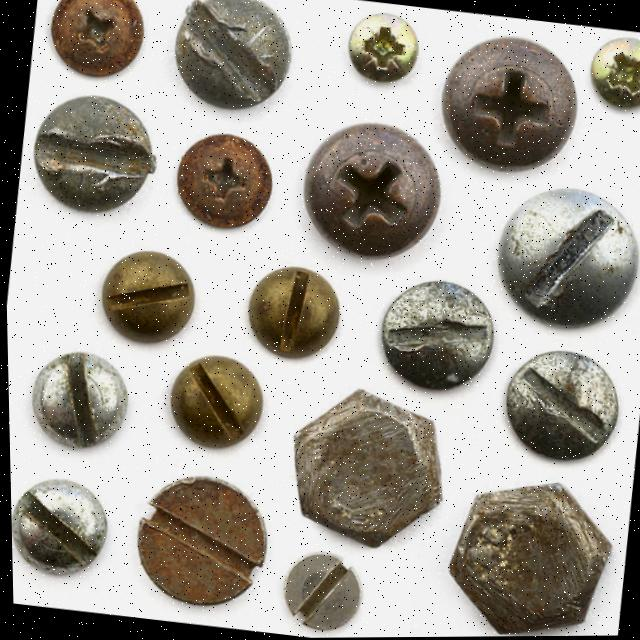Phillips: (286, 110, 457, 268), (433, 38, 586, 177), (163, 117, 281, 240), (28, 0, 170, 89)
Pozidriv: (334, 1, 432, 93), (577, 32, 640, 116)
Slotted: (116, 470, 292, 624), (484, 167, 640, 332), (12, 83, 171, 229), (499, 343, 640, 477), (162, 0, 312, 118), (368, 274, 498, 399), (153, 347, 268, 465), (235, 255, 356, 366), (86, 244, 205, 351), (11, 472, 121, 583), (20, 344, 131, 453), (276, 549, 375, 634)
